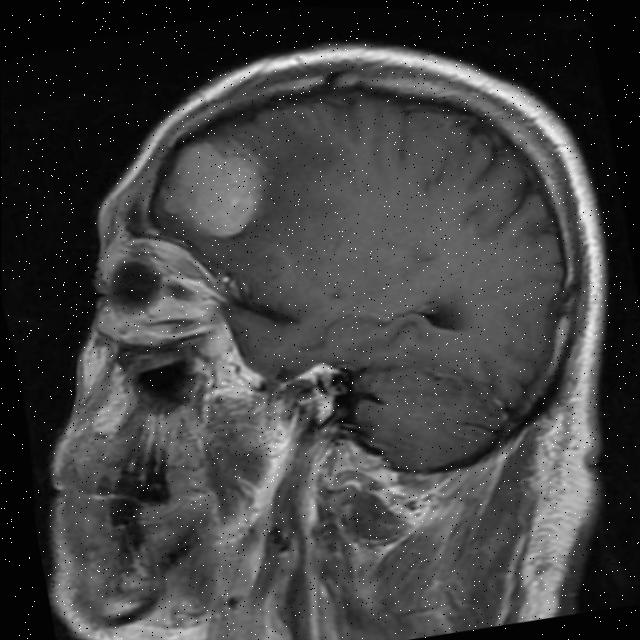Meningioma: (150, 124, 280, 251)
